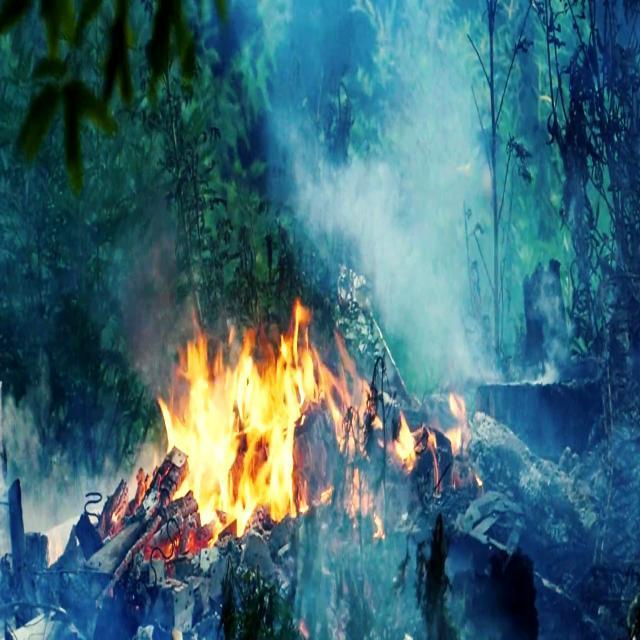Fire: (113, 296, 384, 568), (351, 380, 478, 540)
Smoke: (252, 9, 620, 364)
